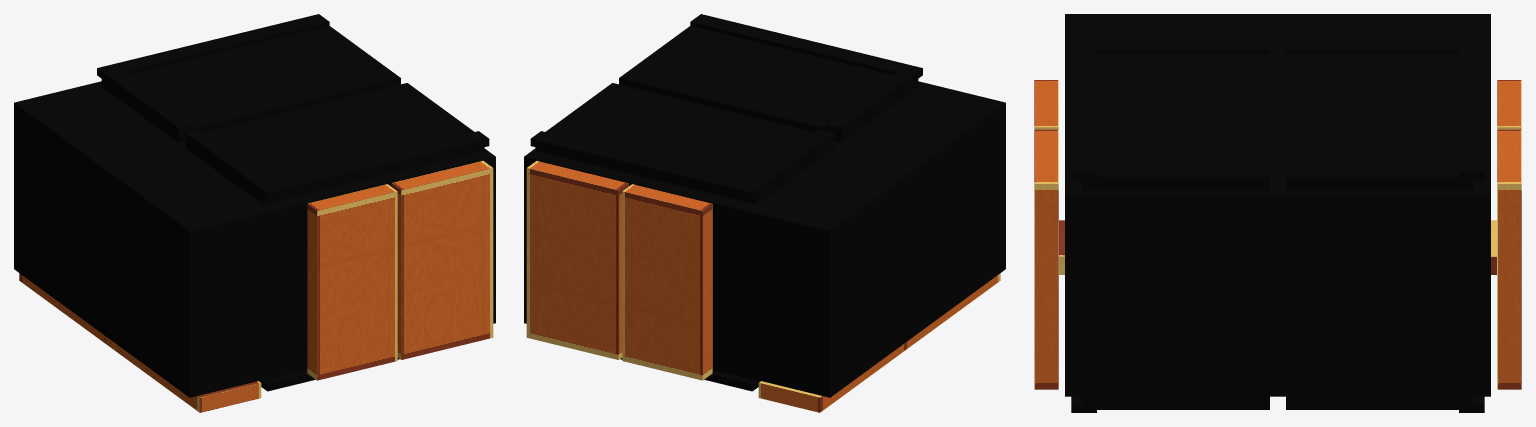
Rendered from bench_leggings_5_hot.obj.
The picture shows the model from 3 angles, left to right: view 1: azimuth 30°, elevation 25°; view 2: azimuth 150°, elevation 25°; view 3: azimuth 270°, elevation 25°; orthographic projection. The views are drawn at different scales.
Parts seen in each view (by area): view 1: geometry; view 2: geometry; view 3: geometry.
Part boxes in pixels (x1,y1,x2,y2): geometry: (14,14,495,412); geometry: (524,14,1005,412); geometry: (1034,14,1521,412).
Bounding box in the file's own units: 0.4032 × 0.25 × 0.4587.
